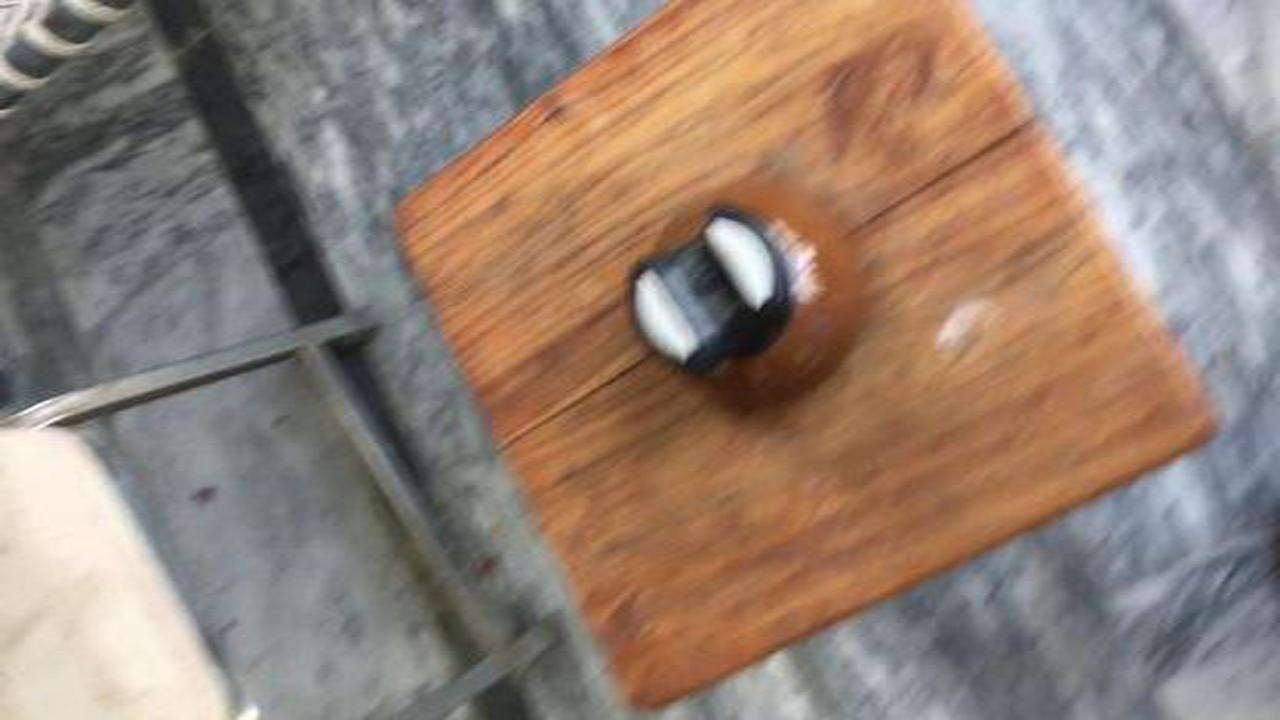insulator_pin: (613, 170, 893, 428)
